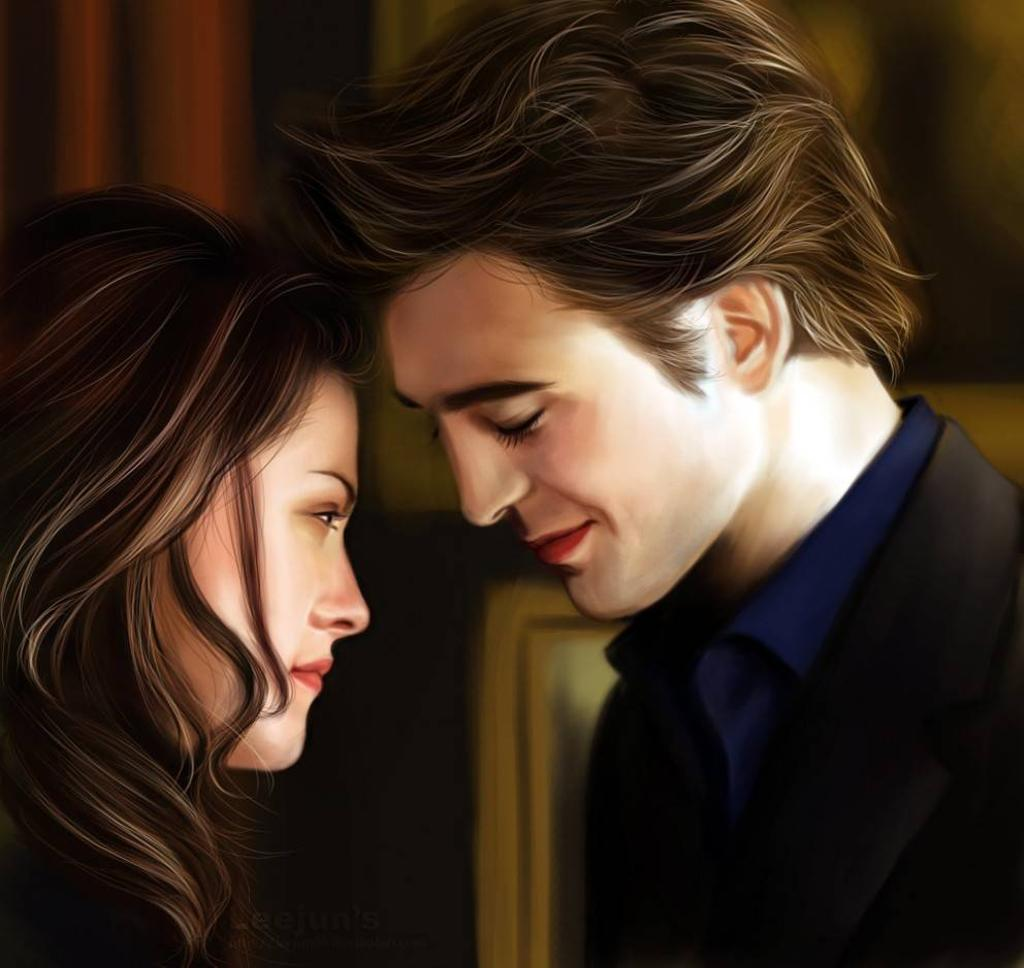face: (380, 282, 704, 616), (120, 364, 374, 774)
